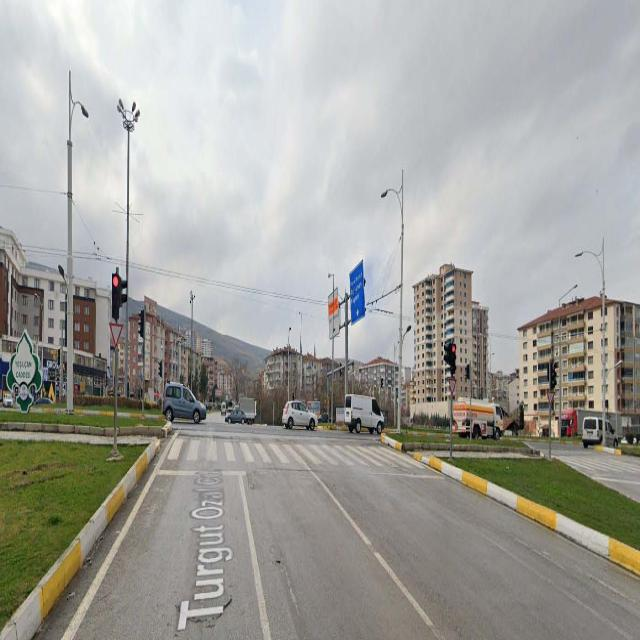kirmizi: (112, 274, 120, 318), (450, 341, 458, 371)
